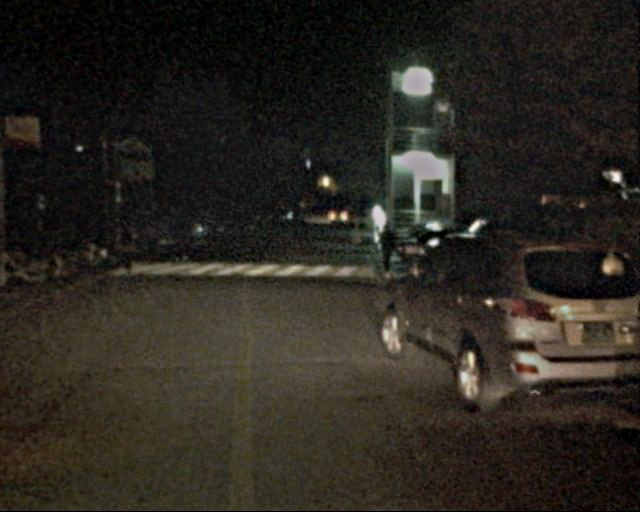person: (373, 222, 398, 284), (116, 216, 140, 274), (169, 213, 183, 258)
